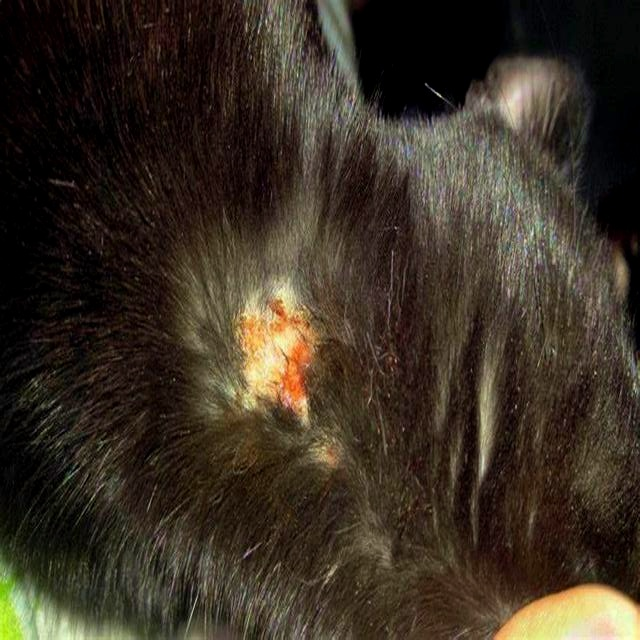ringworm: (239, 290, 335, 405)
